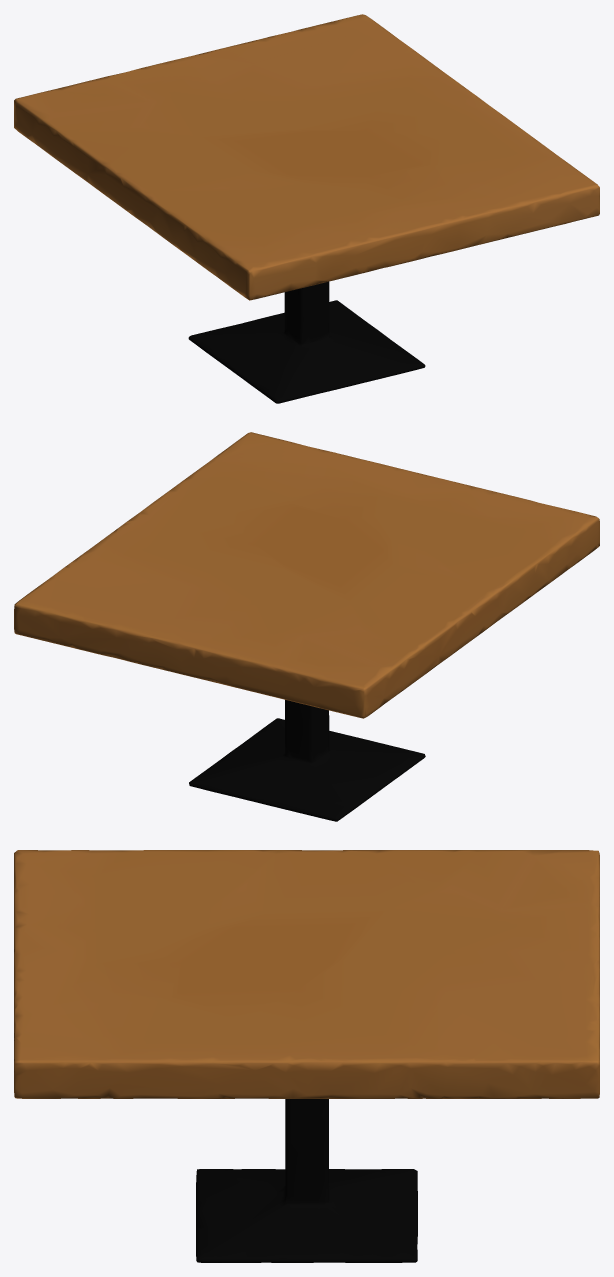
The model's file is gen3d-restaurant-table-lod0.glb.
3 views of the same model, one above another, from view 1: azimuth 30°, elevation 25°; view 2: azimuth 150°, elevation 25°; view 3: azimuth 270°, elevation 25° (orthographic). The views are drawn at different scales.
Visible parts, largest first — view 1: part_0; view 2: part_0; view 3: part_0.
Boxes of the visible parts, left/top/right/bottom form: part_0: left=14, top=14, right=599, bottom=403; part_0: left=14, top=432, right=599, bottom=821; part_0: left=14, top=850, right=599, bottom=1262.
Bounding box in the file's own units: 1.74 × 1 × 2.02.
